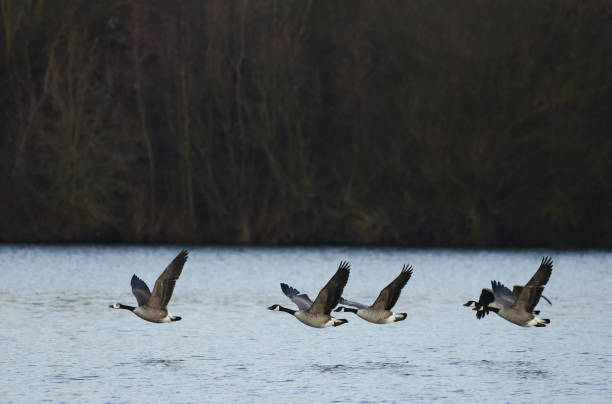goose: (462, 253, 557, 329), (108, 247, 189, 325), (266, 259, 352, 329), (333, 259, 414, 326)
